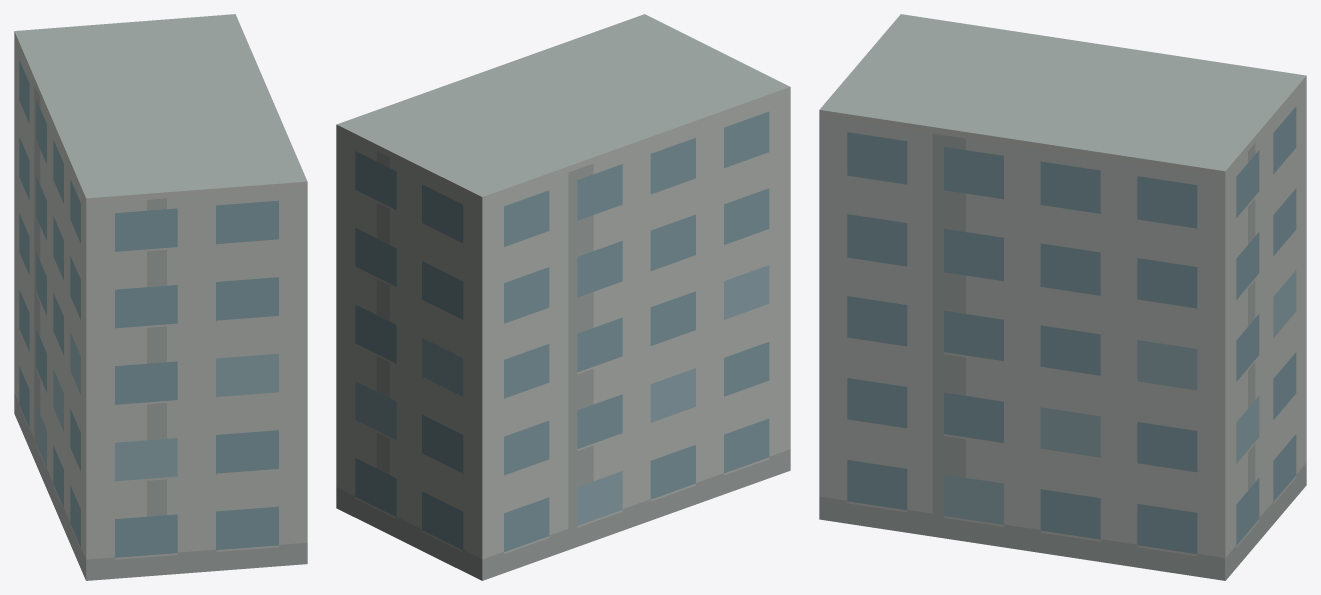
File: residential-9fcc90d0-2cbc-4300-ae2a-d711f89595b5.glb
3 renders of one model, left to right at view 1: azimuth 30°, elevation 25°; view 2: azimuth 150°, elevation 25°; view 3: azimuth 270°, elevation 25°, orthographic. The views are drawn at different scales.
Parts seen in each view (by area): view 1: residential-9fcc90d0-2cbc-4300-ae2a-d711f89595b5.tmp; view 2: residential-9fcc90d0-2cbc-4300-ae2a-d711f89595b5.tmp; view 3: residential-9fcc90d0-2cbc-4300-ae2a-d711f89595b5.tmp.
Part boxes in pixels (x1,y1,x2,y2): residential-9fcc90d0-2cbc-4300-ae2a-d711f89595b5.tmp: [14, 14, 307, 580]; residential-9fcc90d0-2cbc-4300-ae2a-d711f89595b5.tmp: [336, 14, 790, 580]; residential-9fcc90d0-2cbc-4300-ae2a-d711f89595b5.tmp: [819, 14, 1306, 580].
Size of the model in its own units: 12.57 by 15.25 by 16.45.
